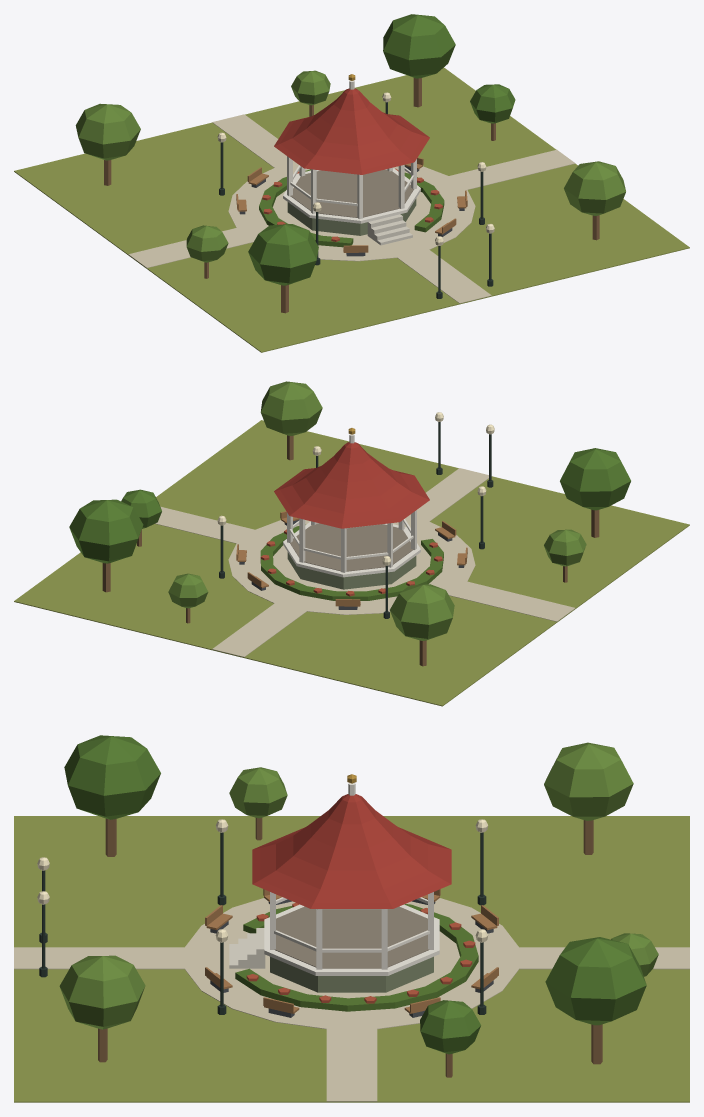
File: bandstand.glb
3 renders of one model, top to bottom at view 1: azimuth 30°, elevation 25°; view 2: azimuth 150°, elevation 25°; view 3: azimuth 270°, elevation 25°, orthographic. The views are drawn at different scales.
Parts seen in each view (by area): view 1: bandstand; view 2: bandstand; view 3: bandstand.
Boxes of the visible parts, <box> form: bandstand: <box>14,14,689,352</box>; bandstand: <box>14,381,689,706</box>; bandstand: <box>14,735,689,1102</box>.
Bounding box in the file's own units: 32 × 9.7 × 32.
